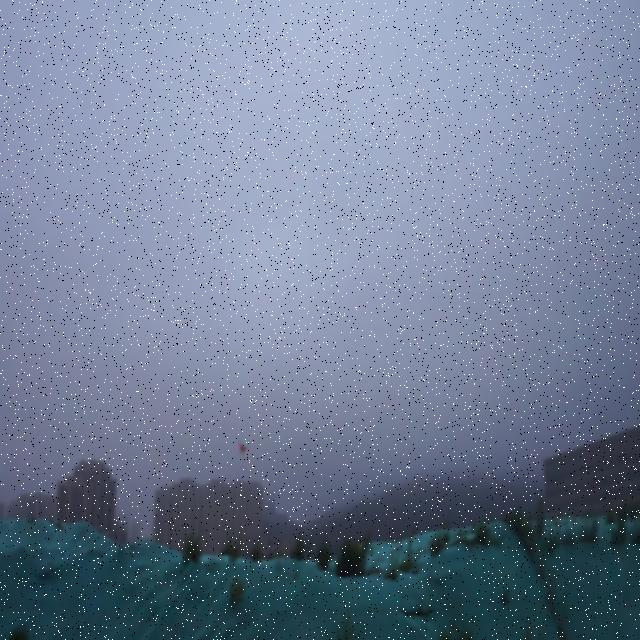UAV: (237, 443, 249, 455)
